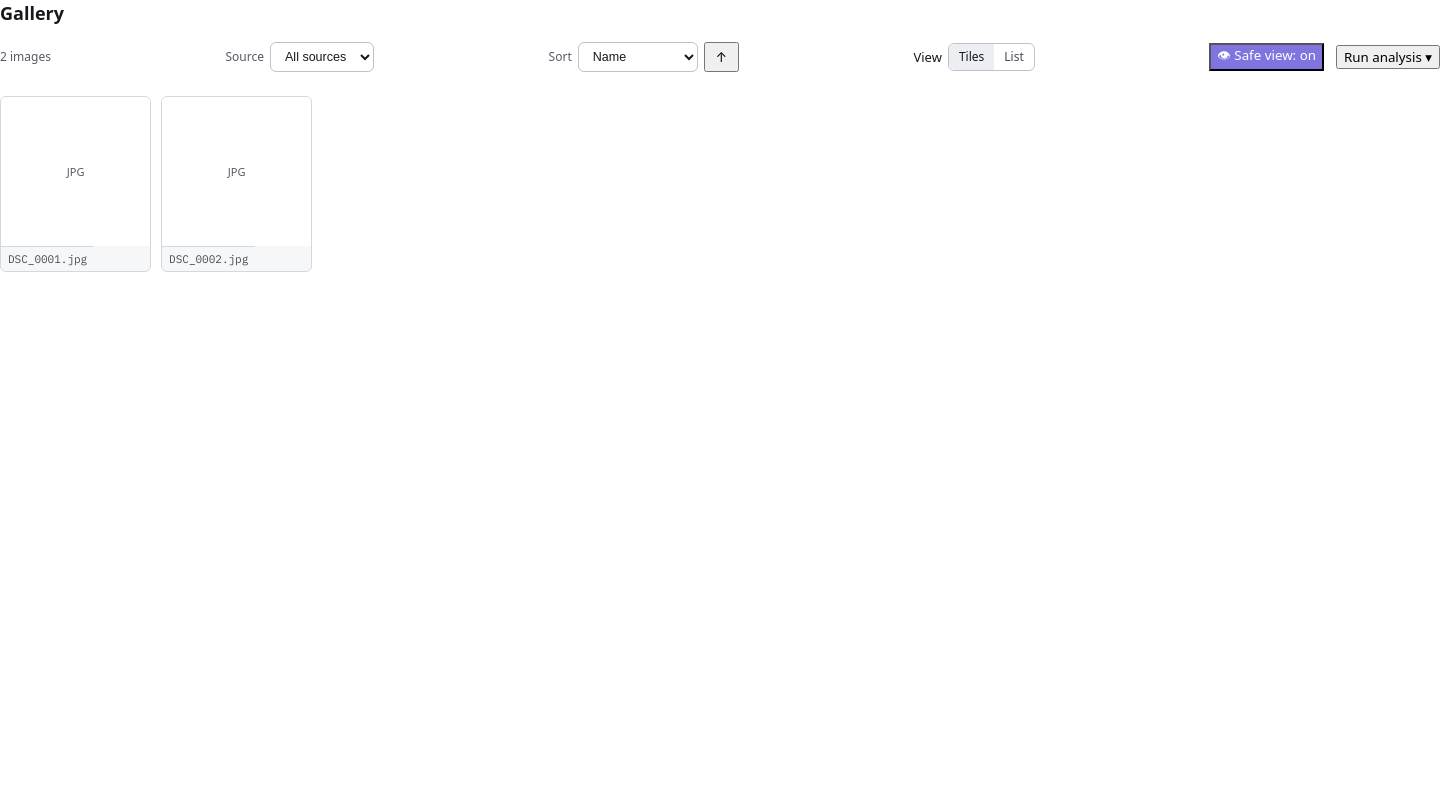
it: GalleryPage › moves the highlight with arrow keys and opens the lightbox with Space
Select the first image, then arrow to the second.
Click the text "DSC_0001.jpg" at coordinates (48, 259), box [1,246,94,271]
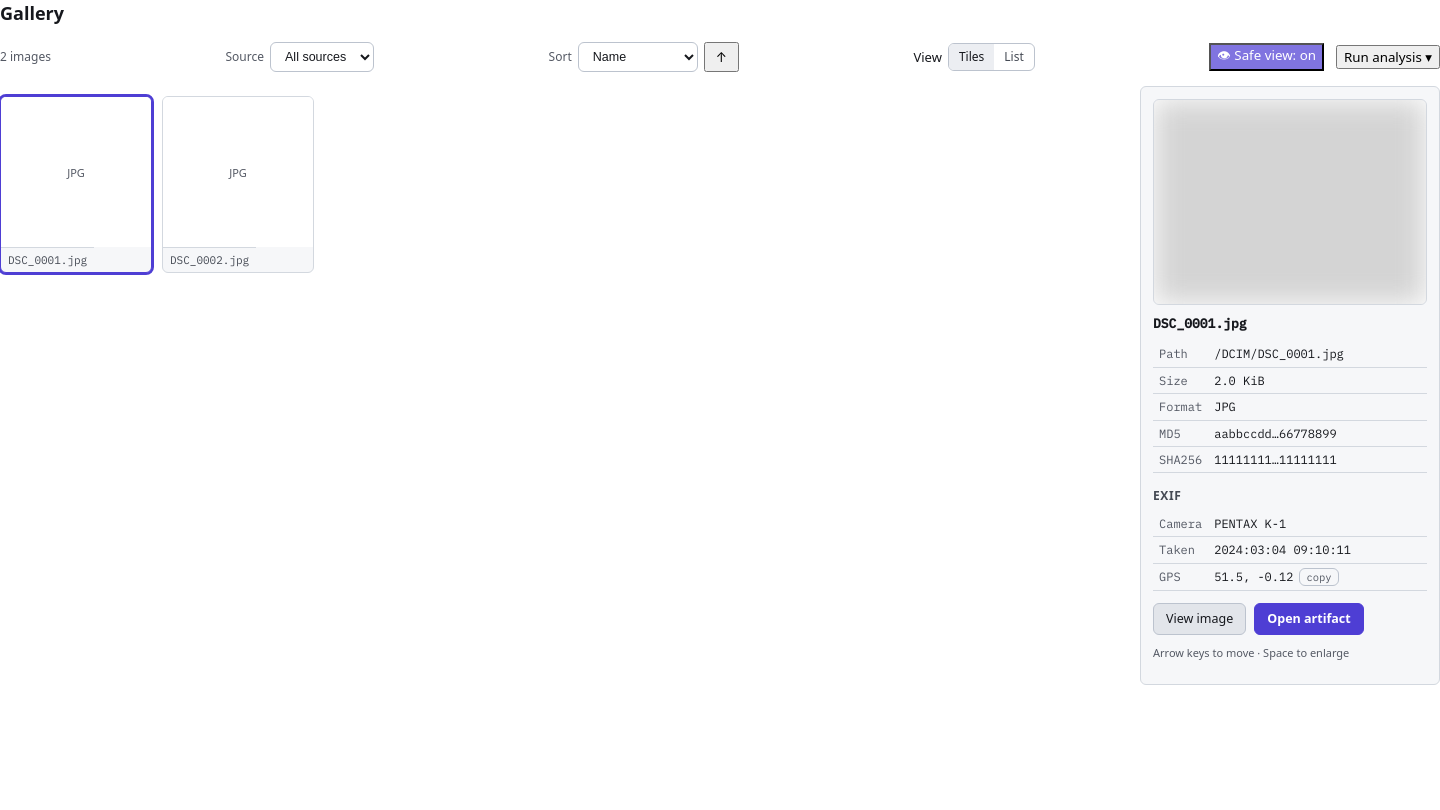
Press Arrowright
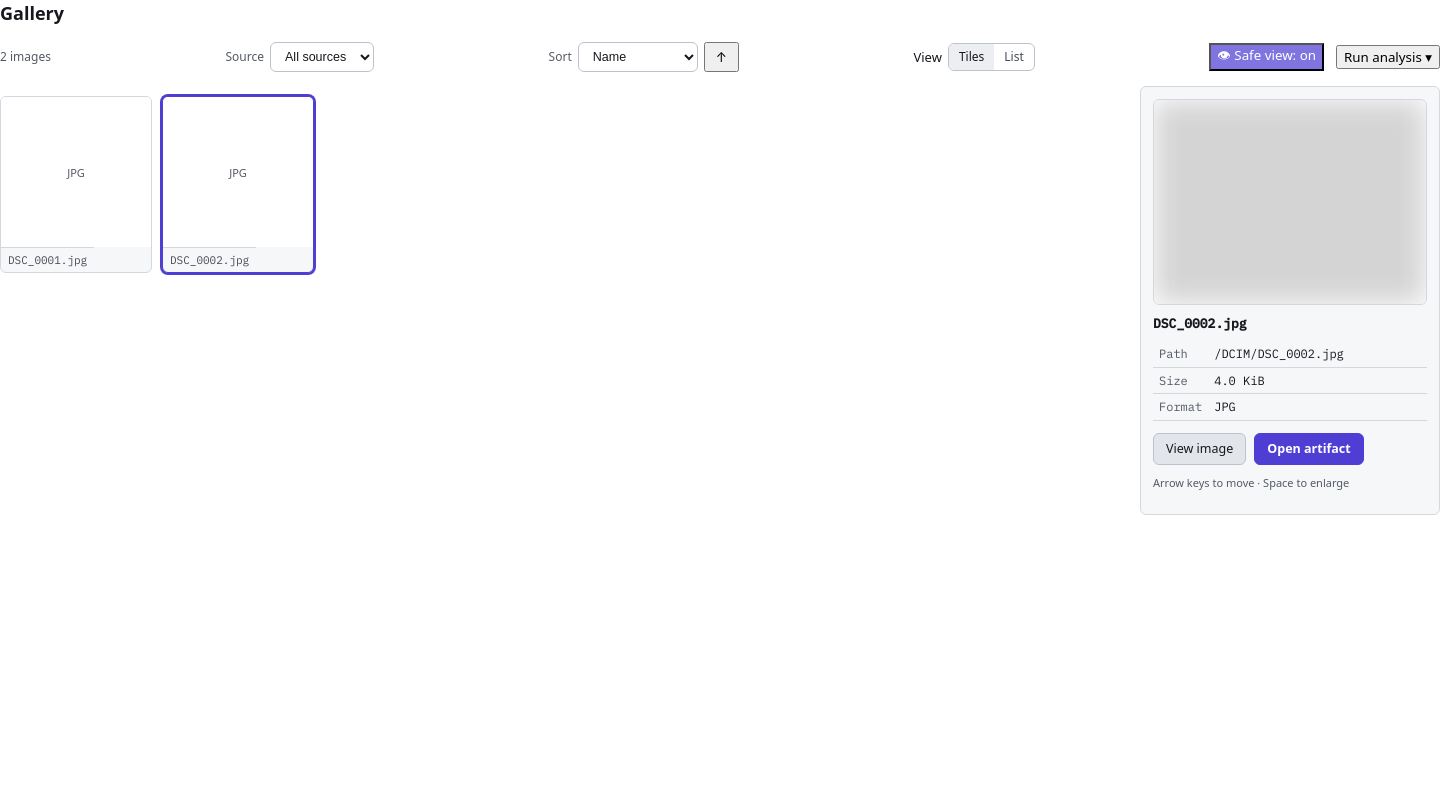
Expected: the text "/DCIM/DSC_0002.jpg" is shown, [1208,341,1427,367]
Space opens the lightbox on the now-highlighted second image.
Type keys " "
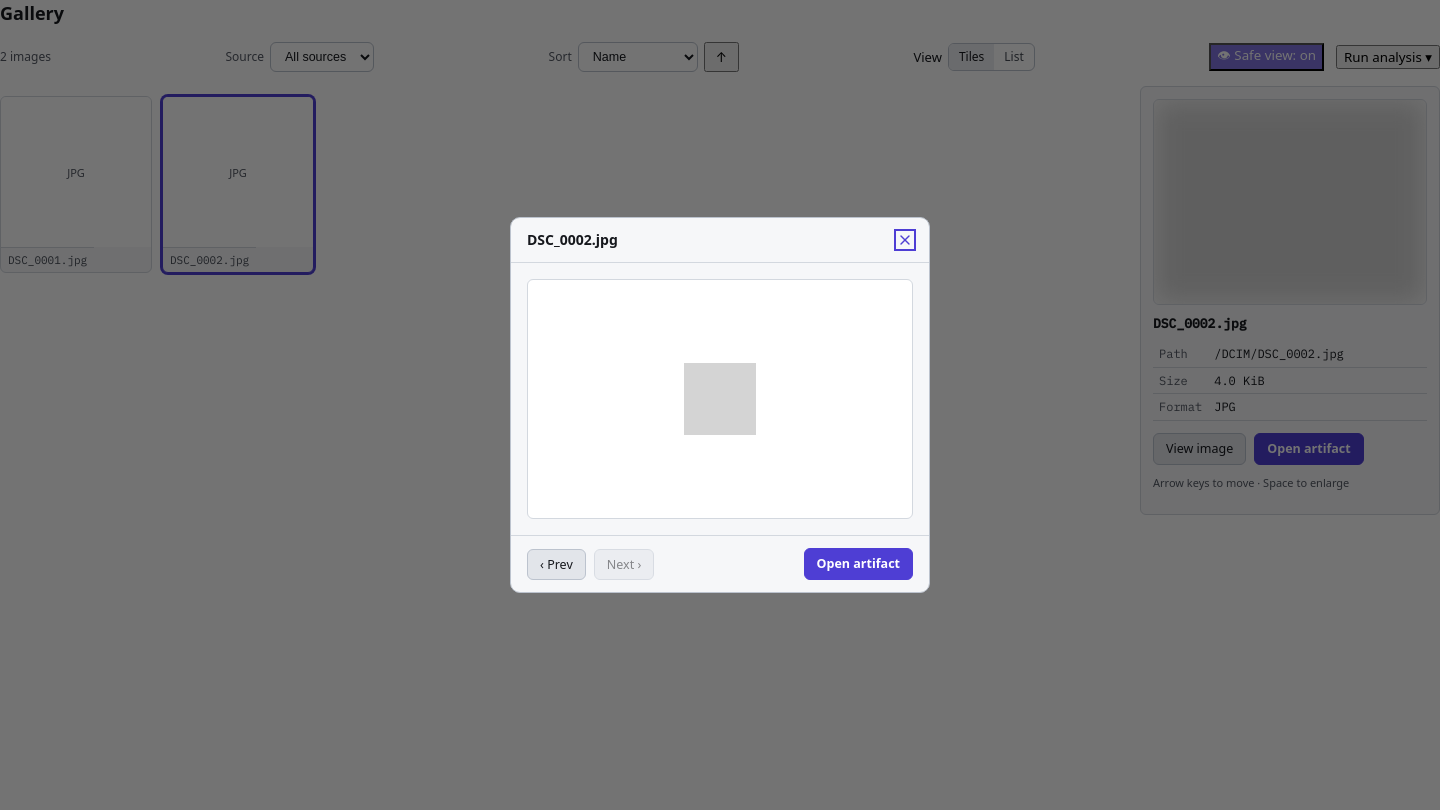
Escape closes it.
Press Escape
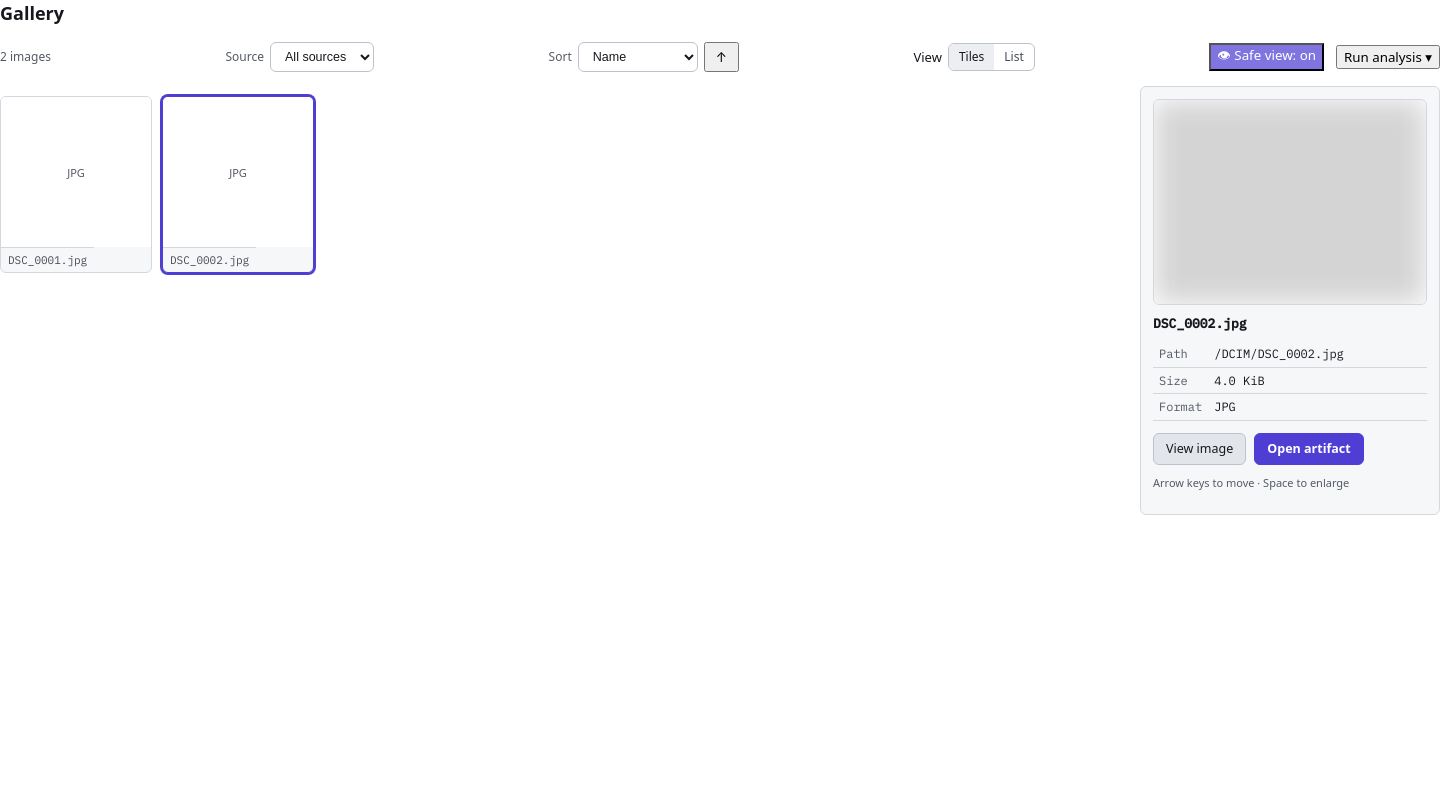
Expected: the dialog is gone
